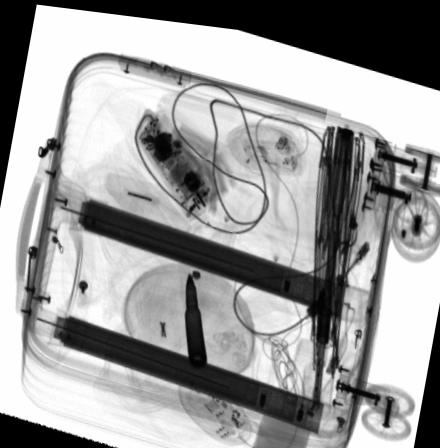Bullet: (182, 268, 208, 363)
